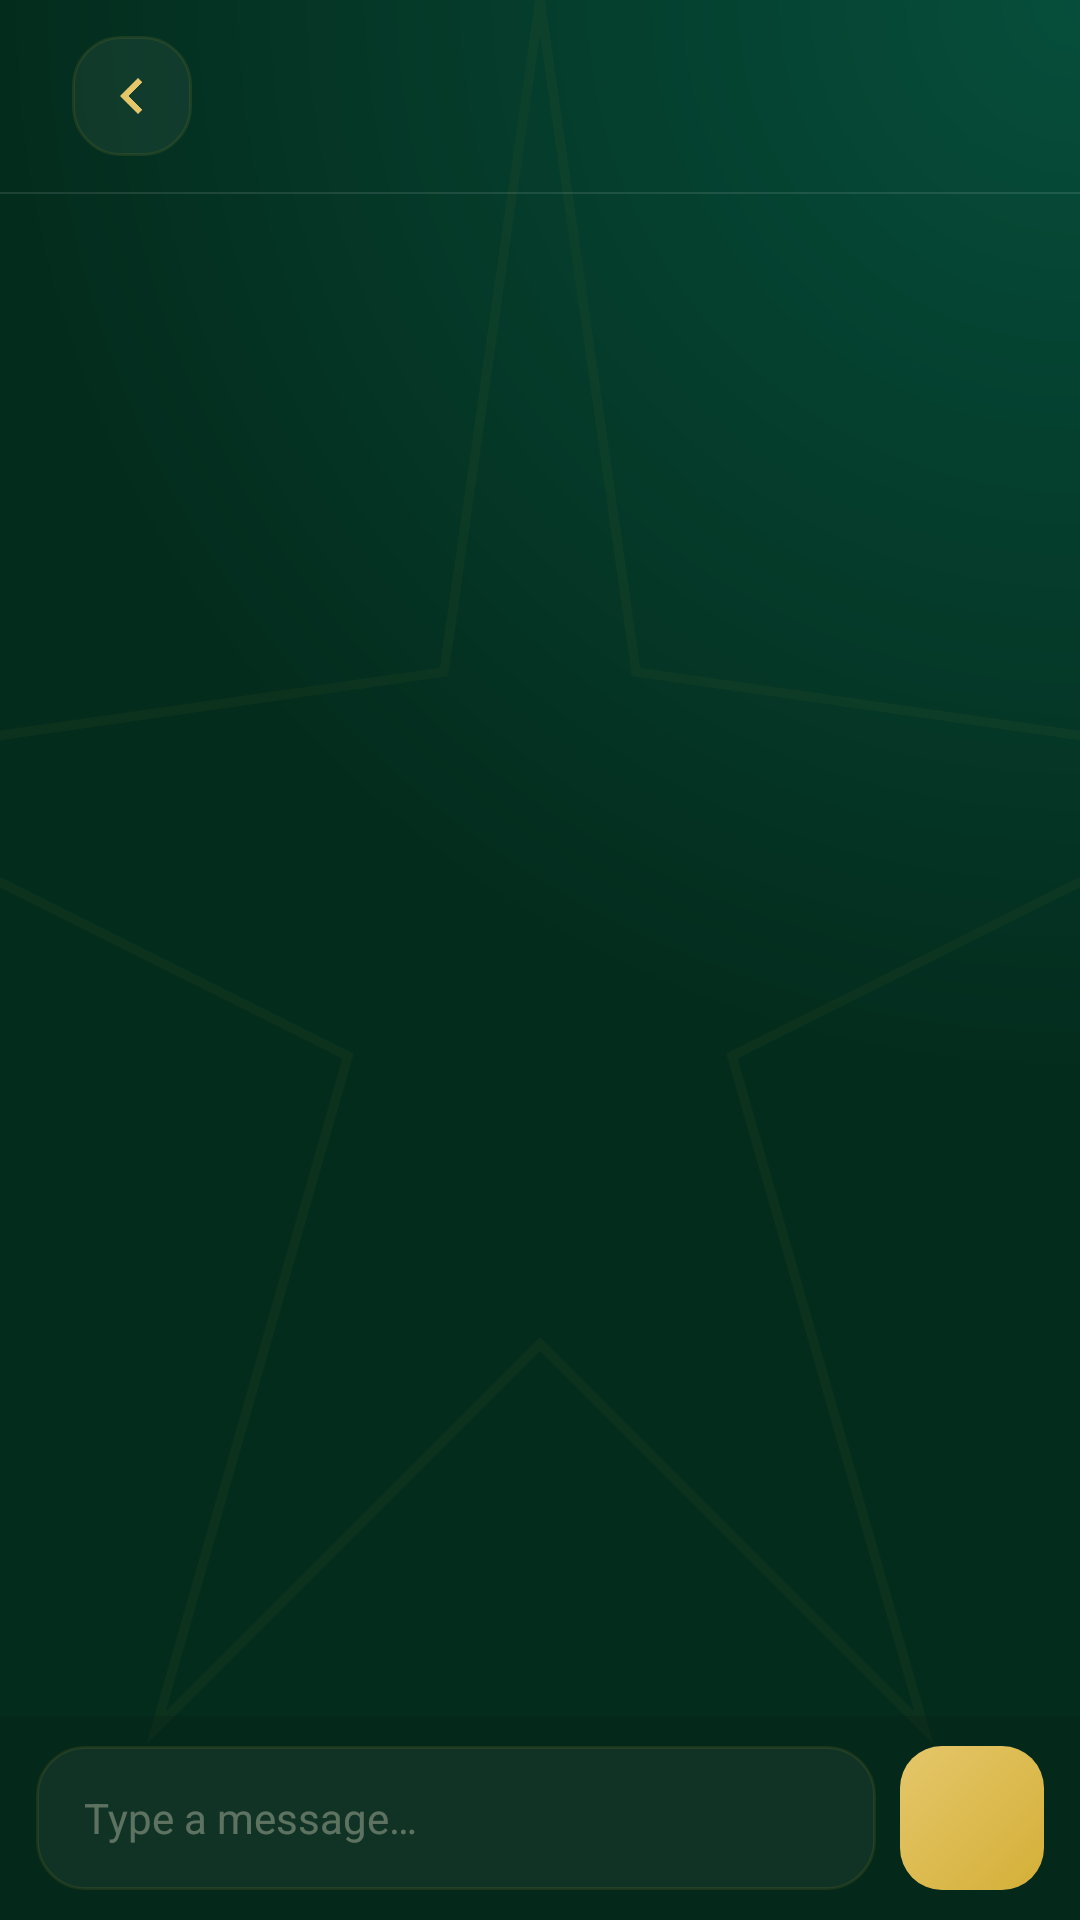

Locate icon controls on the screen. Image size 1080 x 1920, boxes as region(x1, y1, x2, y2).
register back arrow: region(72, 36, 192, 156)
